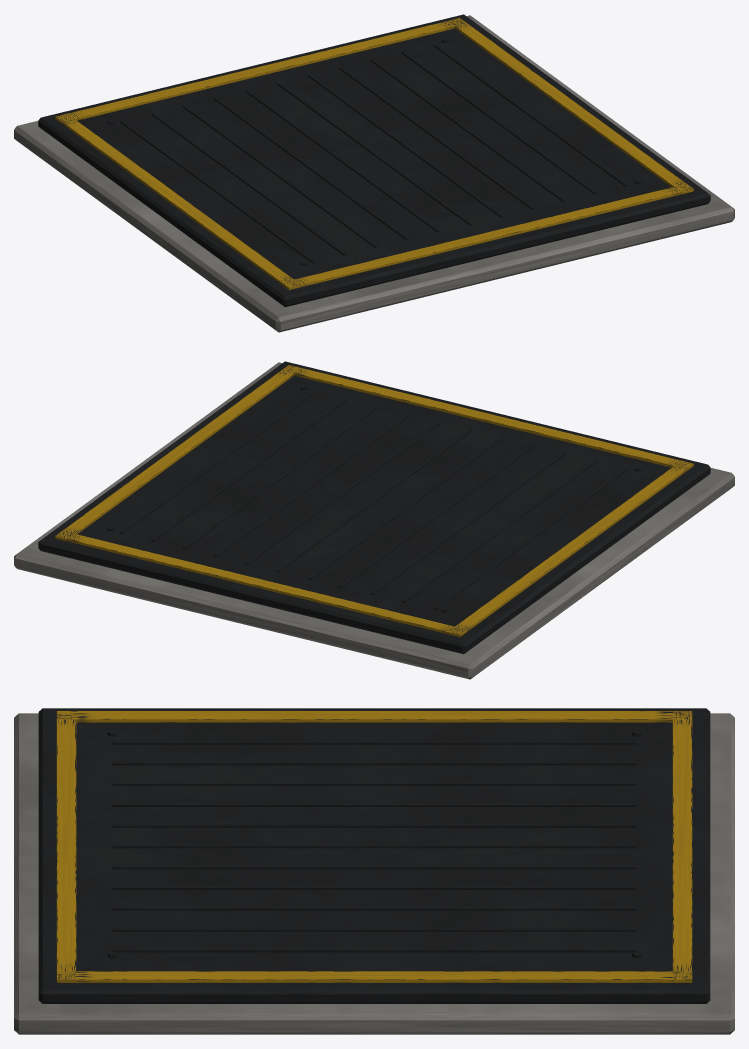
File: HarborRelayPad.fbx
3 renders of one model, top to bottom at view 1: azimuth 30°, elevation 25°; view 2: azimuth 150°, elevation 25°; view 3: azimuth 270°, elevation 25°, orthographic. The views are drawn at different scales.
Parts seen in each view (by area): view 1: HarborRelayPad.001; view 2: HarborRelayPad.001; view 3: HarborRelayPad.001.
Boxes of the visible parts, x1,y1,x2,y2 form: HarborRelayPad.001: [14, 14, 734, 332]; HarborRelayPad.001: [14, 361, 734, 679]; HarborRelayPad.001: [14, 708, 734, 1034].
Size of the model in its own units: 2.2 by 0.14 by 2.2.
